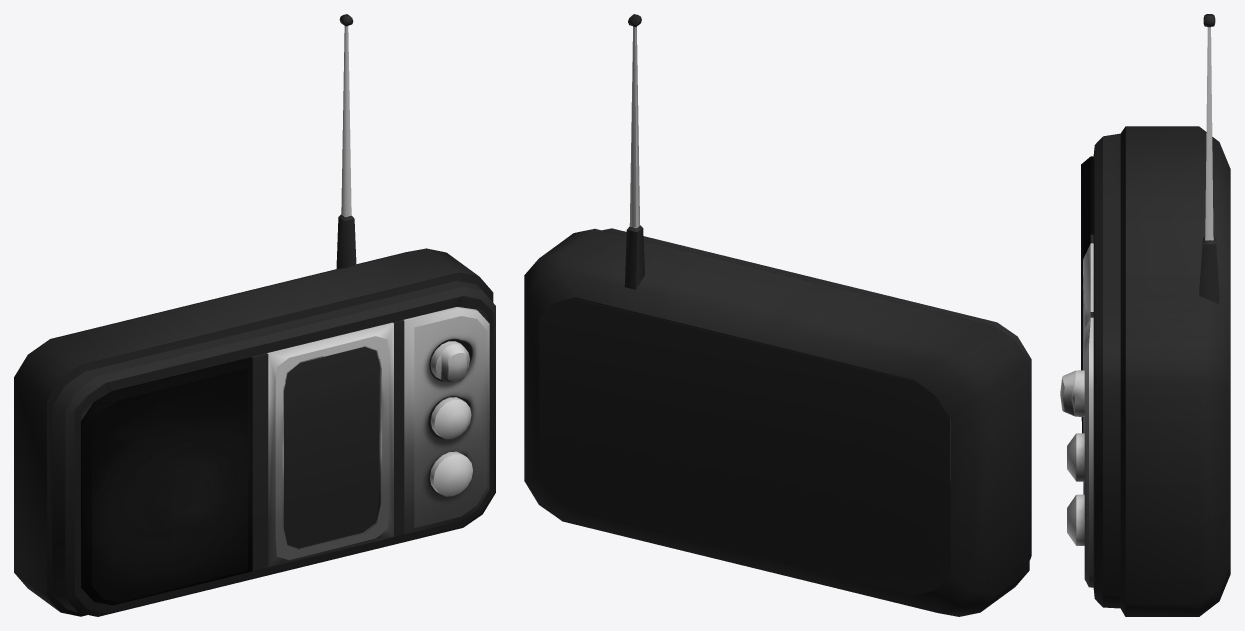
File: Radio.fbx
3 renders of one model, left to right at view 1: azimuth 30°, elevation 25°; view 2: azimuth 150°, elevation 25°; view 3: azimuth 270°, elevation 25°, orthographic. The views are drawn at different scales.
Parts seen in each view (by area): view 1: Cube; view 2: Cube; view 3: Cube.
Part boxes in pixels (x1,y1,x2,y2): Cube: [14, 14, 495, 616]; Cube: [524, 14, 1031, 616]; Cube: [1060, 14, 1230, 616].
Bounding box in the file's own units: 371 × 398 × 110.
1 material, 1 textured.
